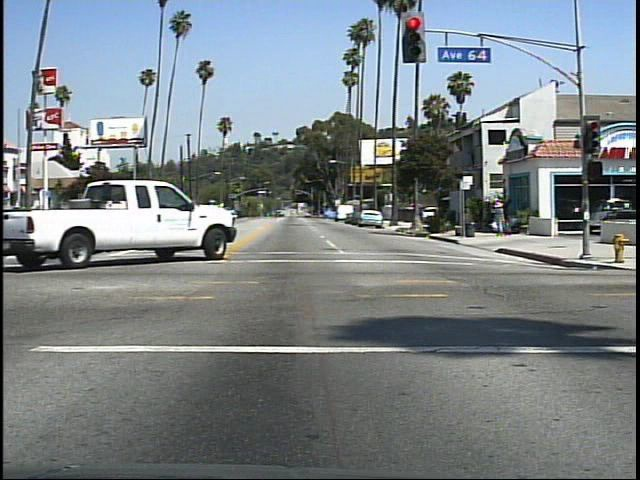person: (493, 196, 512, 240)
